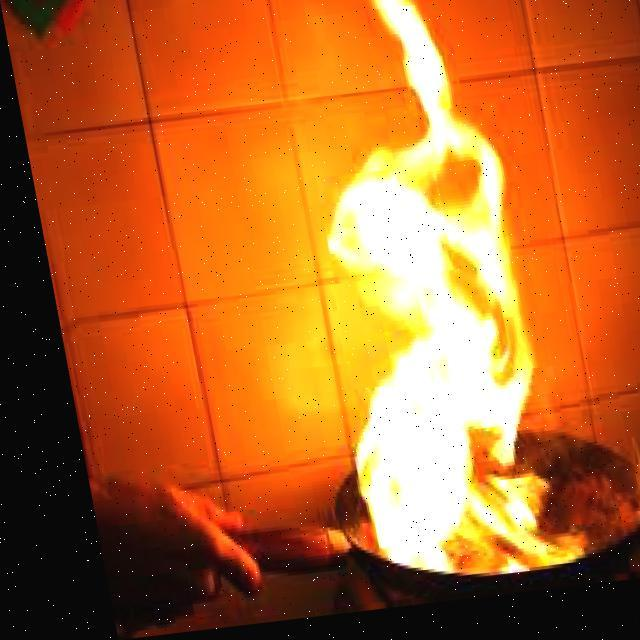Fire: (262, 0, 588, 606)
